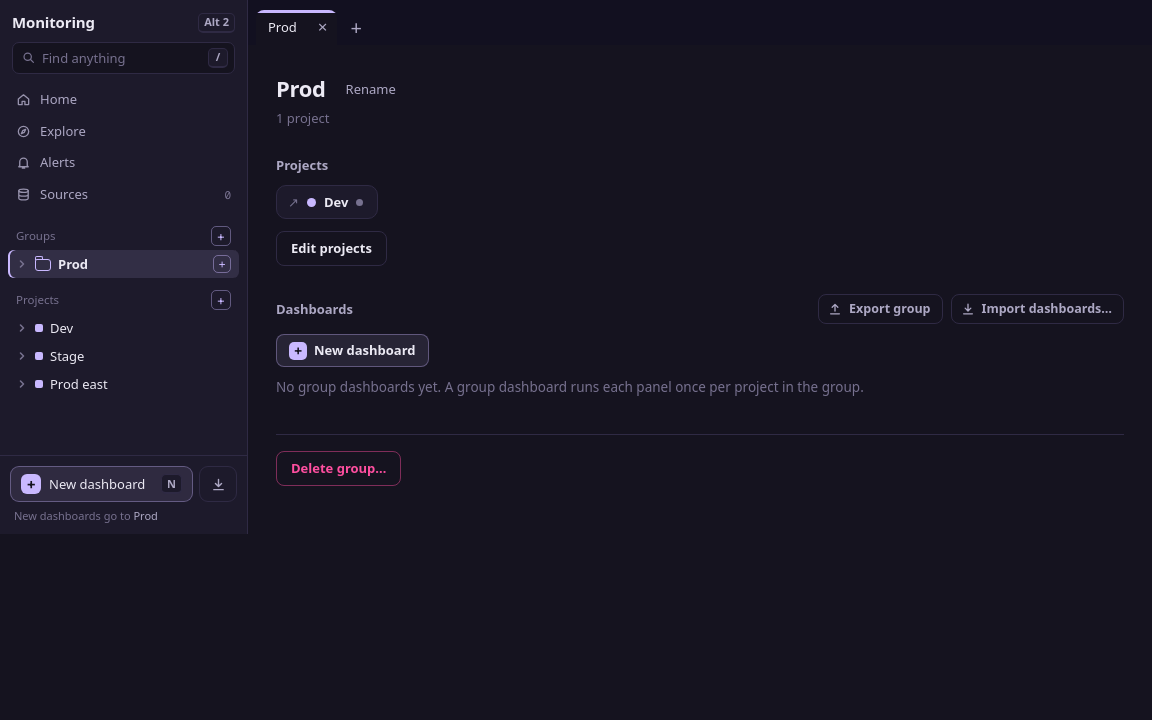
Groups › edits a group's projects
This screenshot has width=1152, height=720.
Click the button "Edit projects": (331, 249) [276,231,387,266]
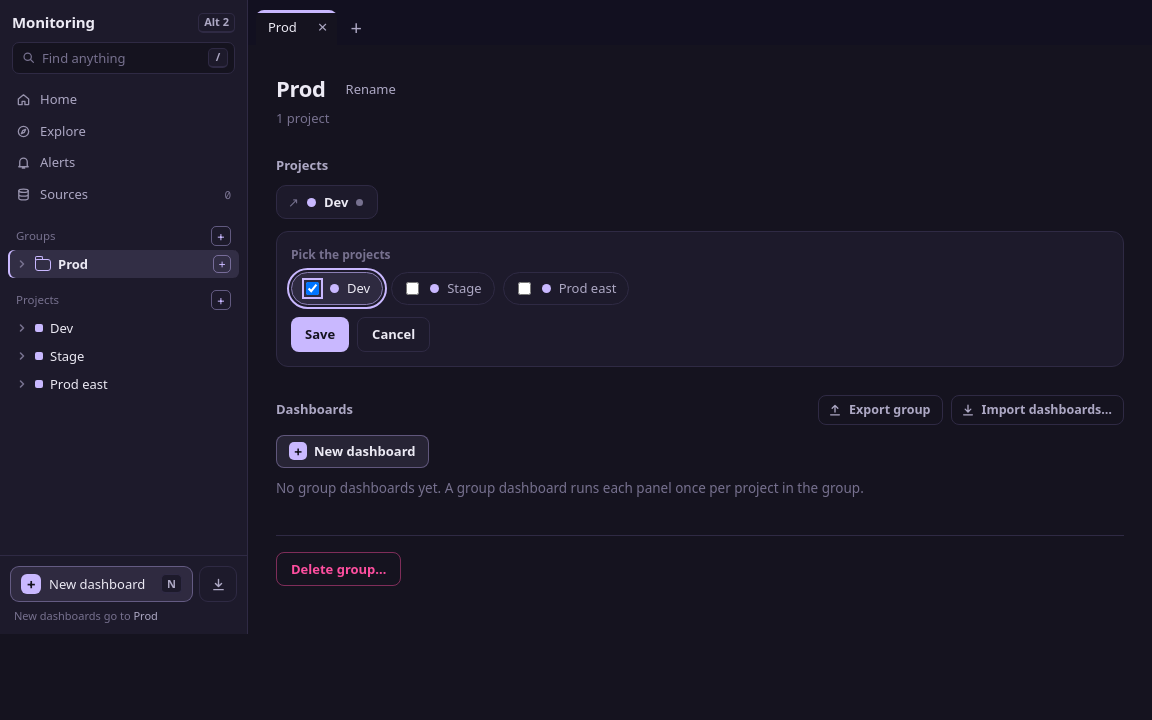
Now the checkbox labelled "Dev" is checked
Click the checkbox labelled "Dev": (312, 288) [306,282,319,295]
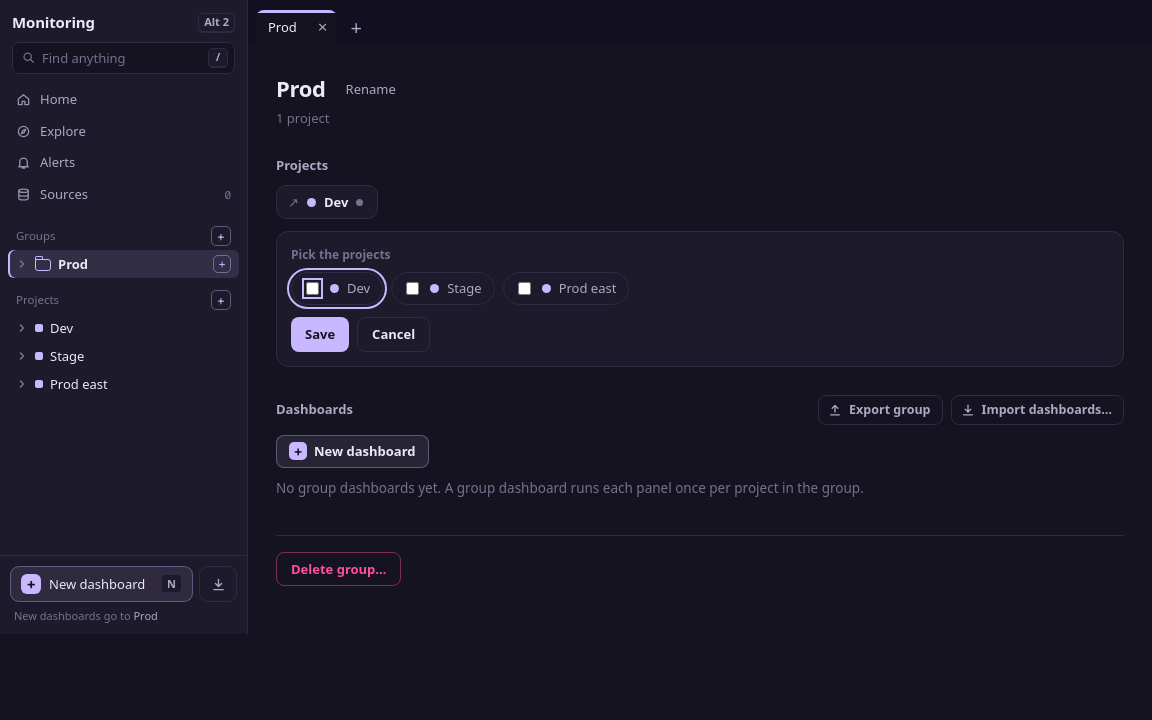
Click the checkbox labelled "Prod east": (524, 288) [518,282,531,295]
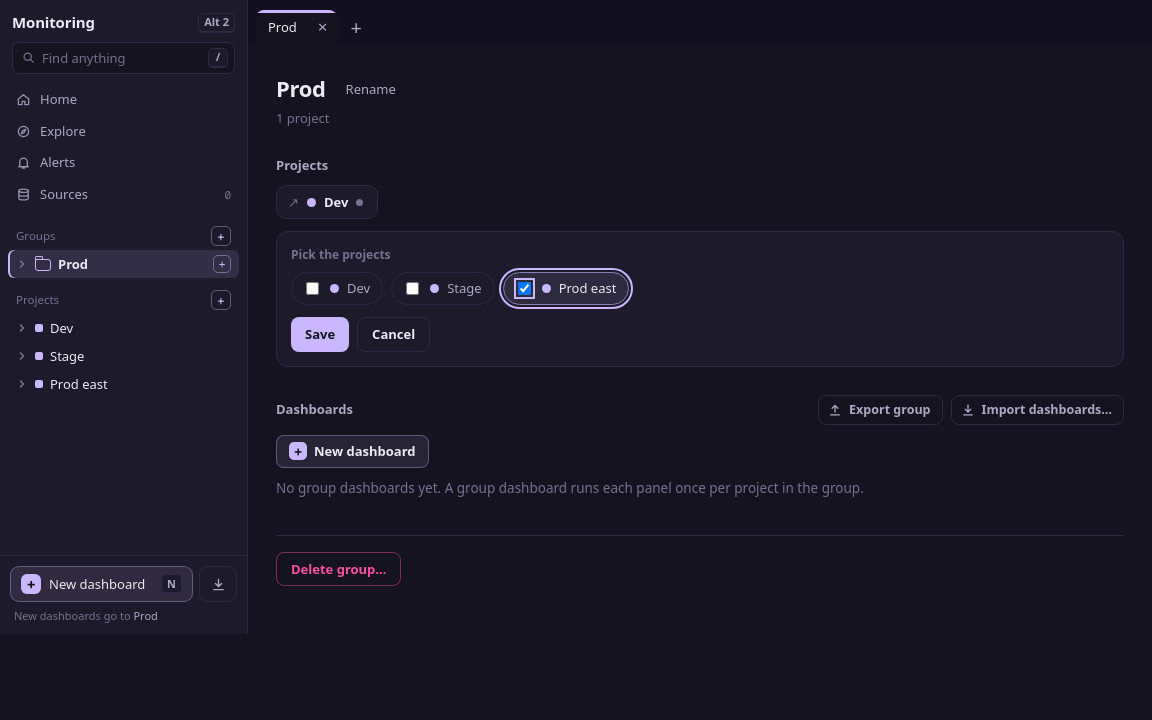
Click the button "Save": (320, 334) [291,317,349,352]
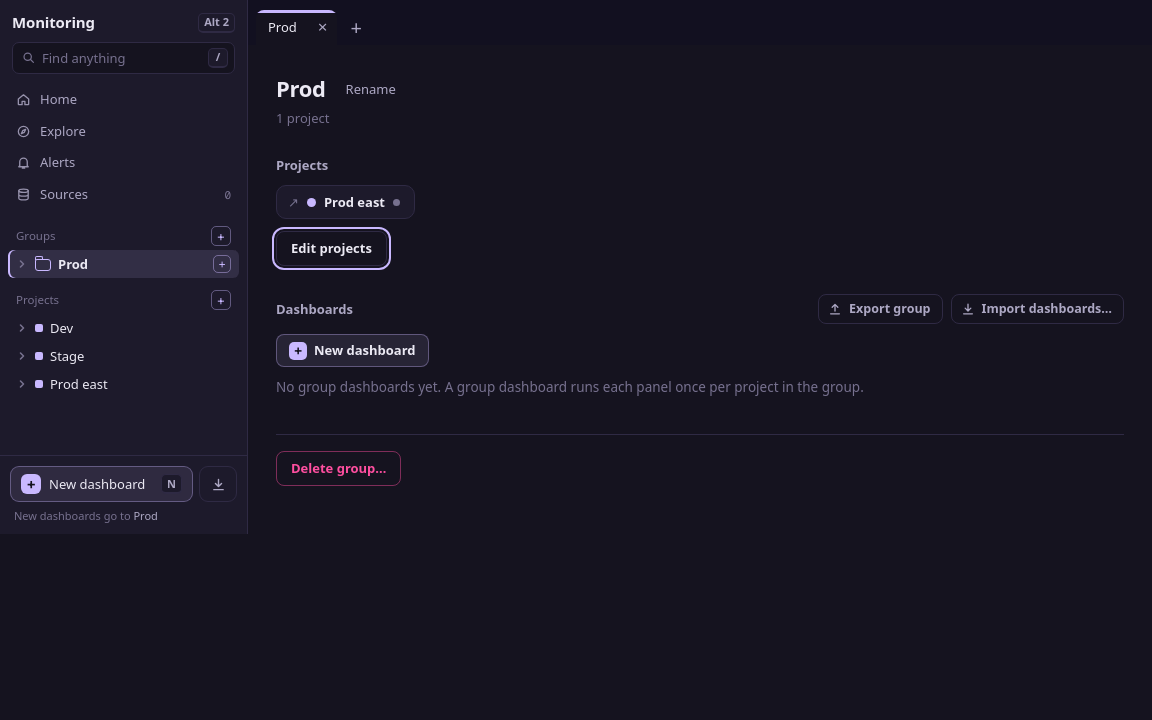
Now the button "Edit projects" is shown, box [276,231,387,266]
